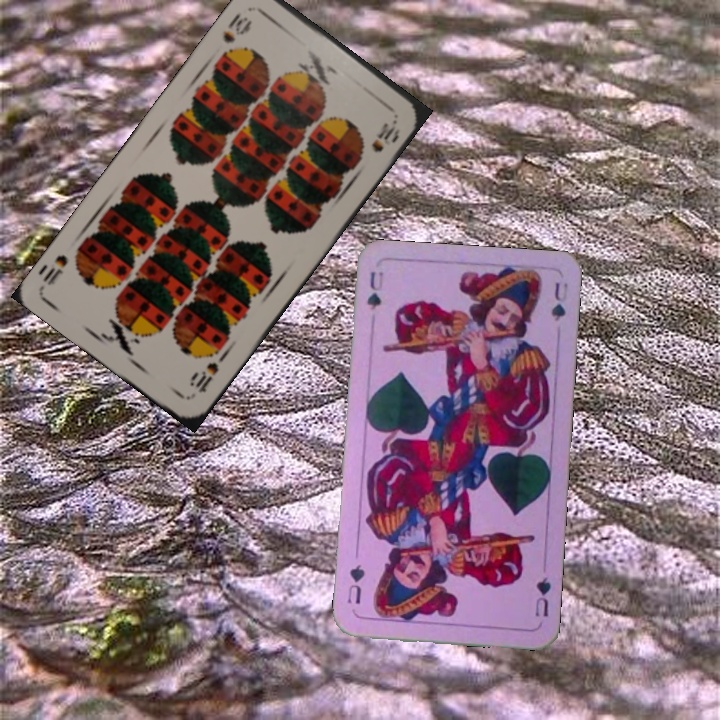GU: (362, 267, 386, 313), (531, 573, 554, 619)
S10: (218, 10, 255, 46), (186, 358, 221, 396)
